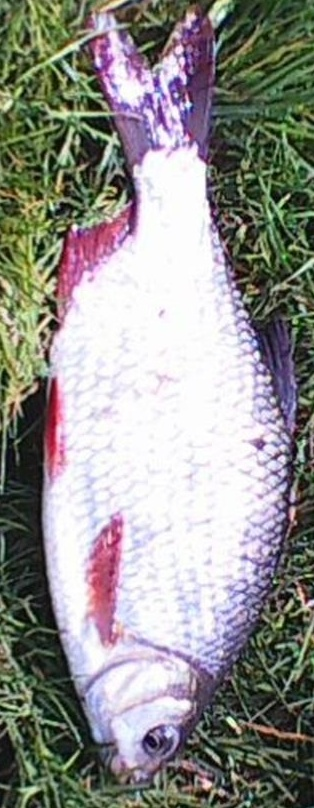Rutilus rutilus: (20, 20, 294, 788)
